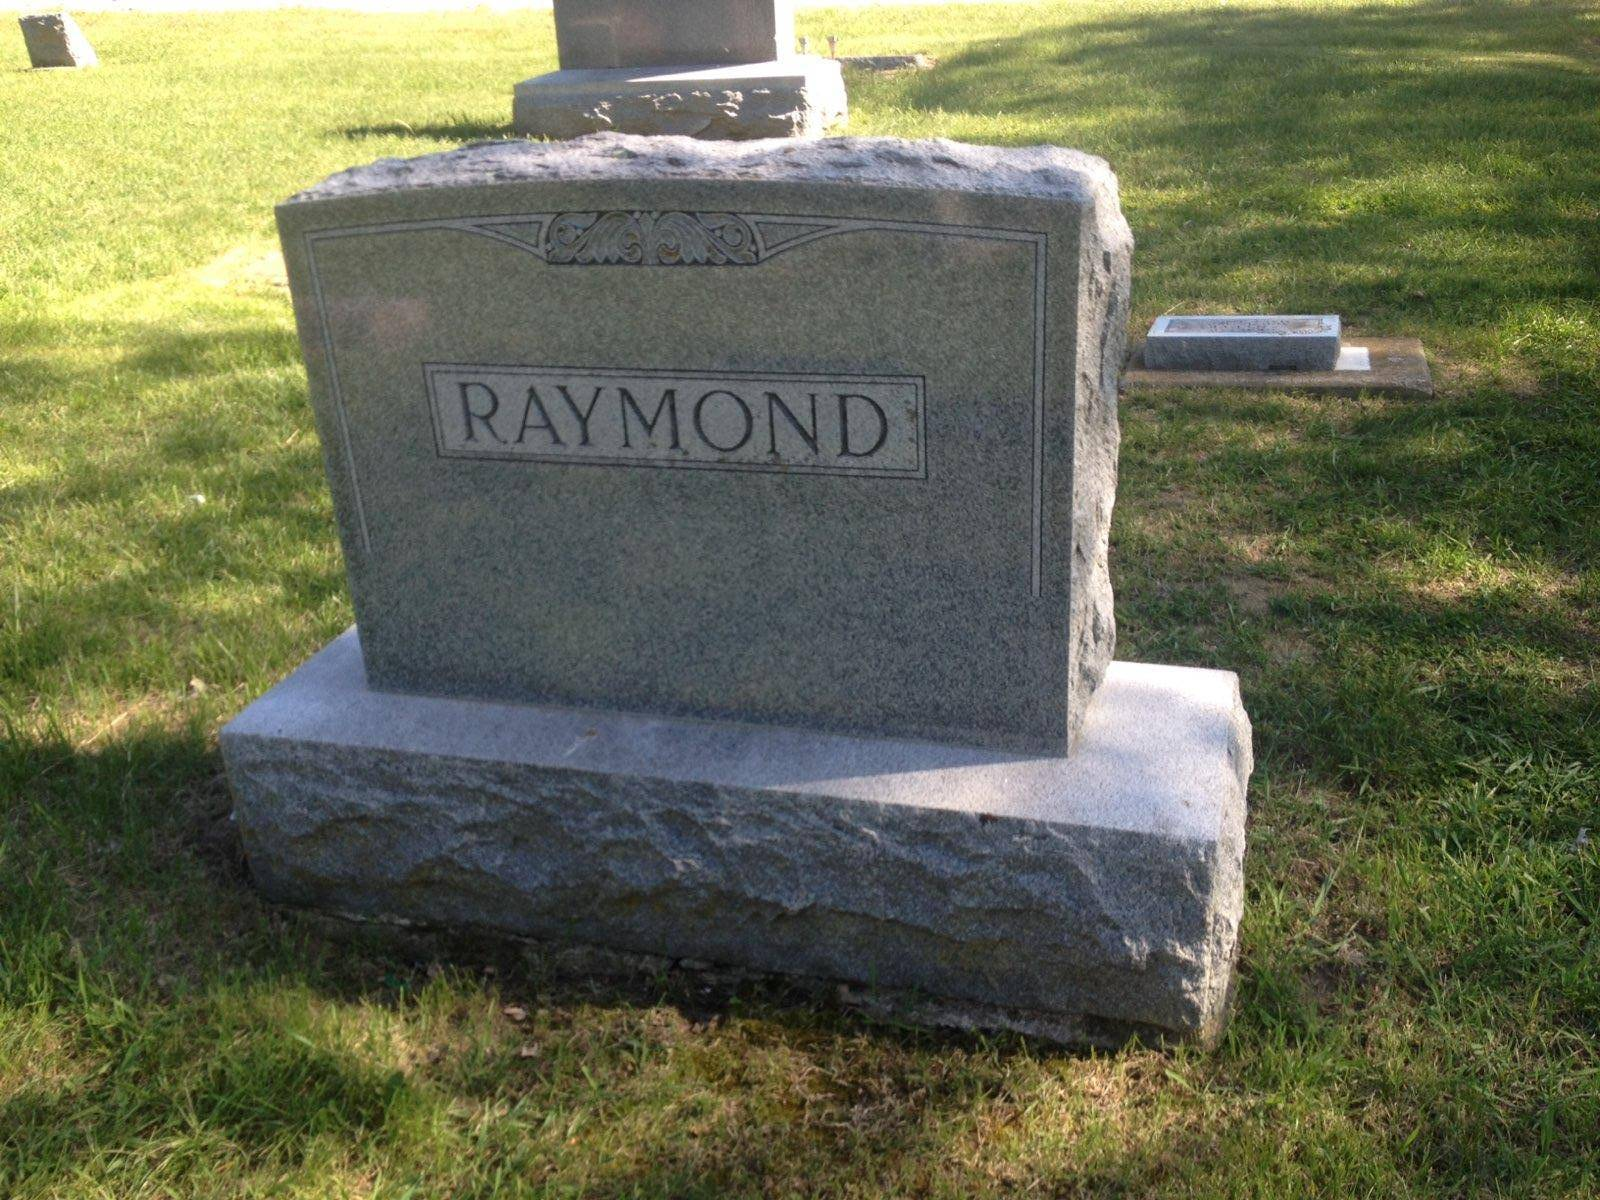upright: (215, 129, 1270, 1059)
